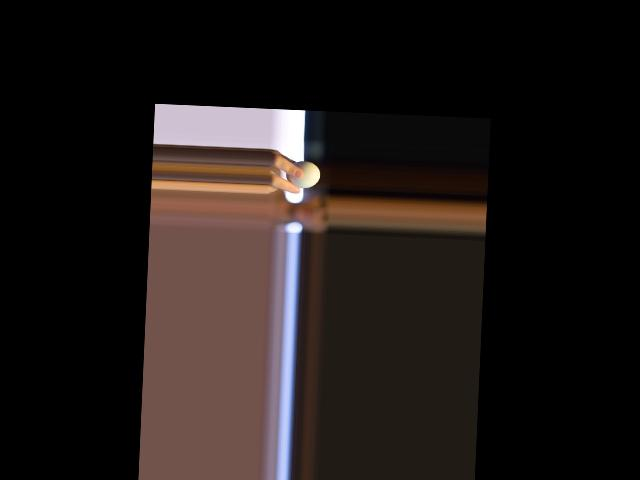egg: (285, 161, 320, 189)
